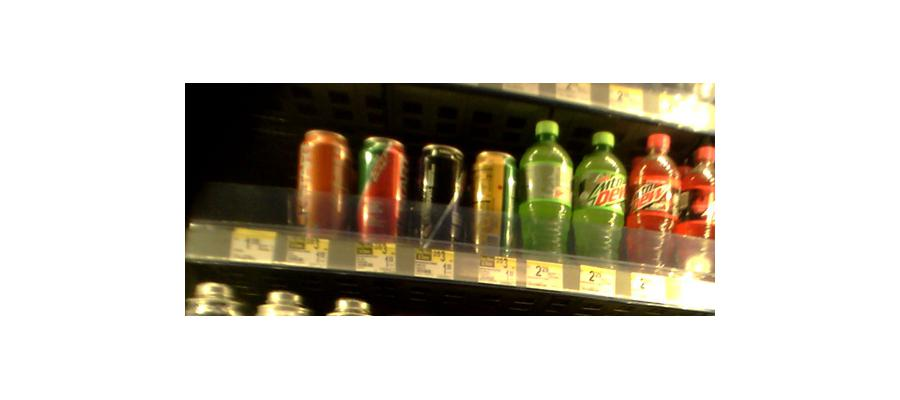bottle: (517, 122, 574, 260), (626, 131, 678, 272), (572, 128, 625, 263), (296, 126, 352, 235), (354, 135, 405, 243), (470, 147, 518, 260), (415, 140, 465, 247), (682, 139, 717, 280)
